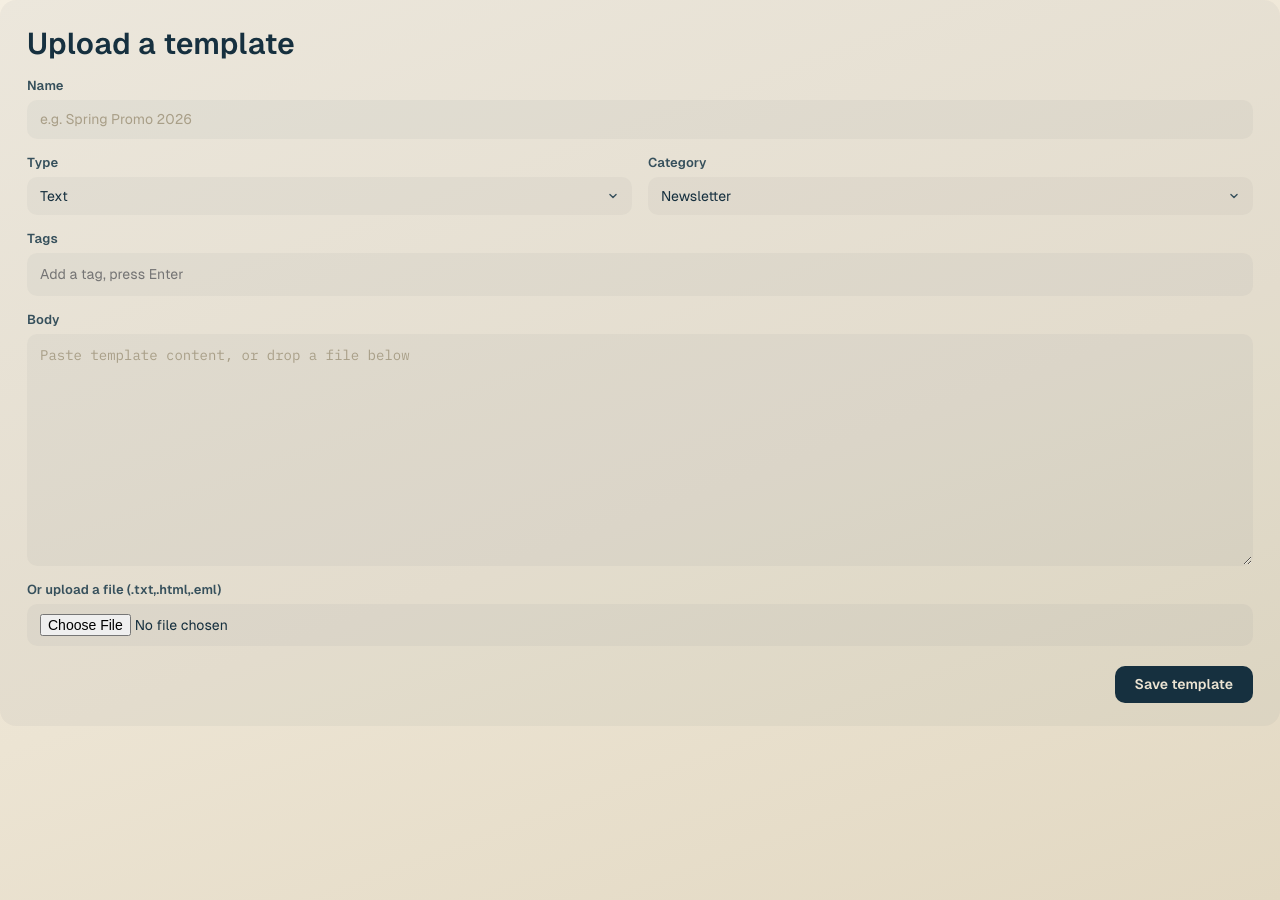
Test case: UploadForm › blocks submit and shows an error when an email template has no subject
Type "Welcome" into the field labelled "Name".
click(640, 119); type("Welcome")  # box [27,100,1253,138]
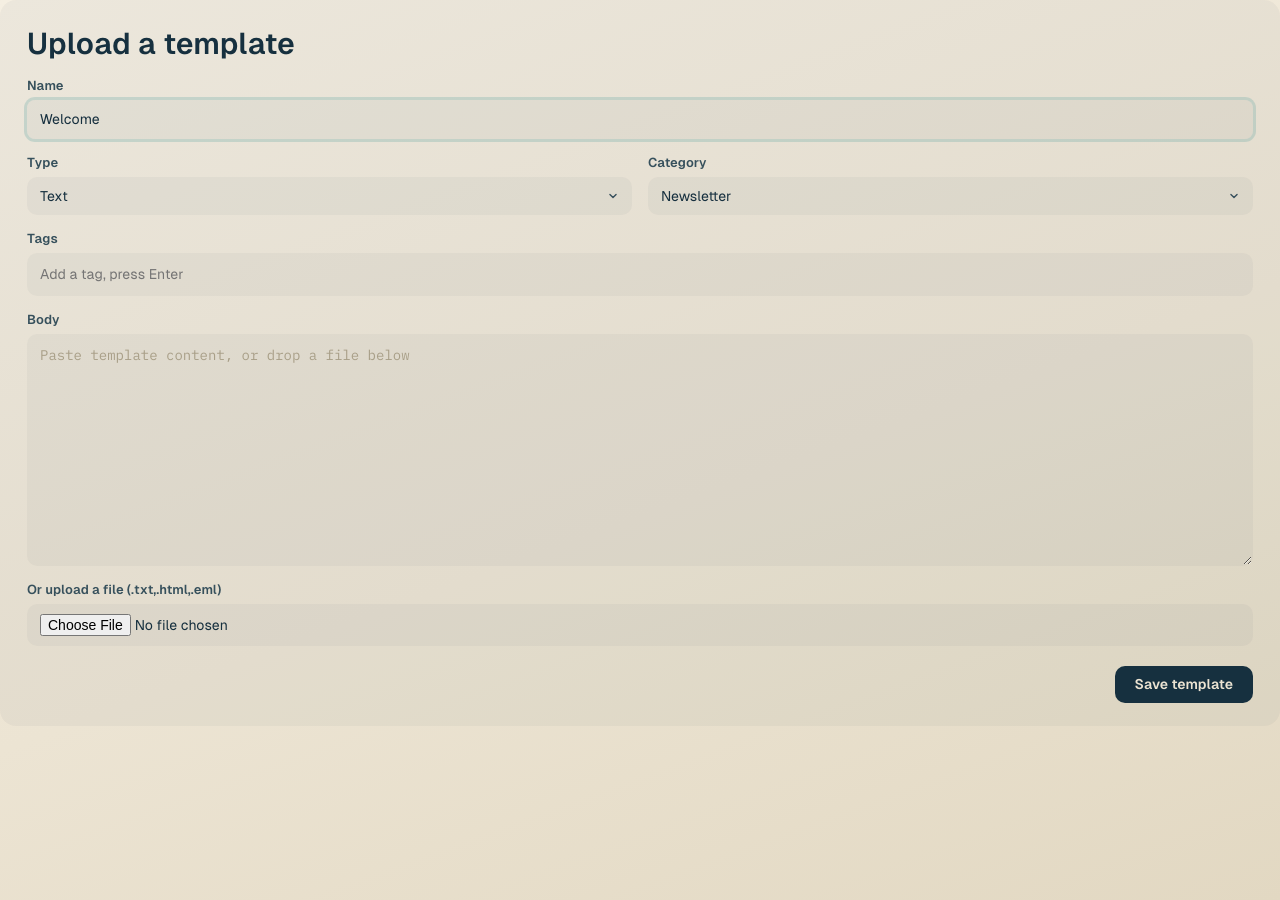
Select "Email" in the dropdown labelled "Type" at (330,196), box [27,176,632,214]
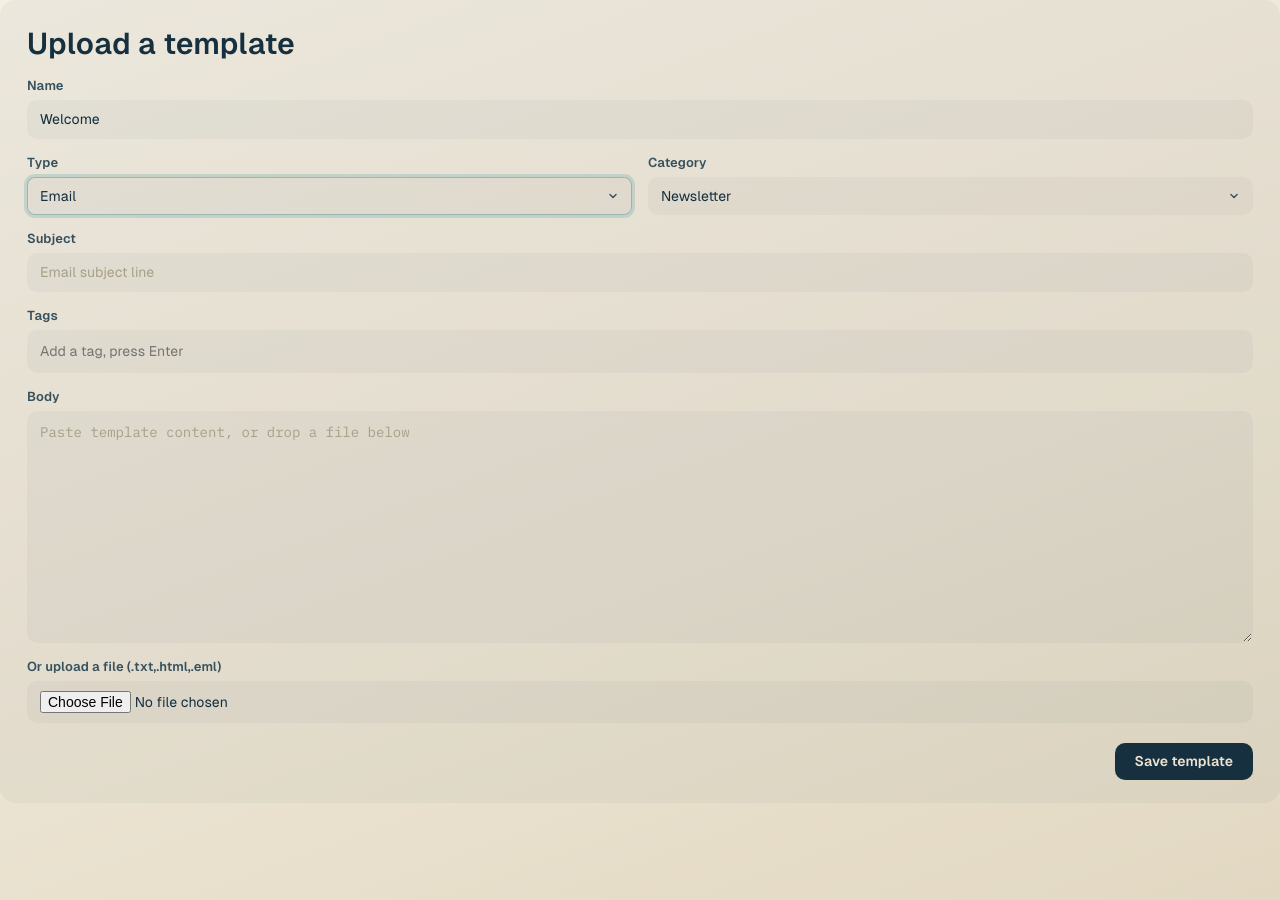
Type "Hi there" into the text box labelled "Body".
click(640, 526); type("Hi there")  # box [27,410,1253,642]
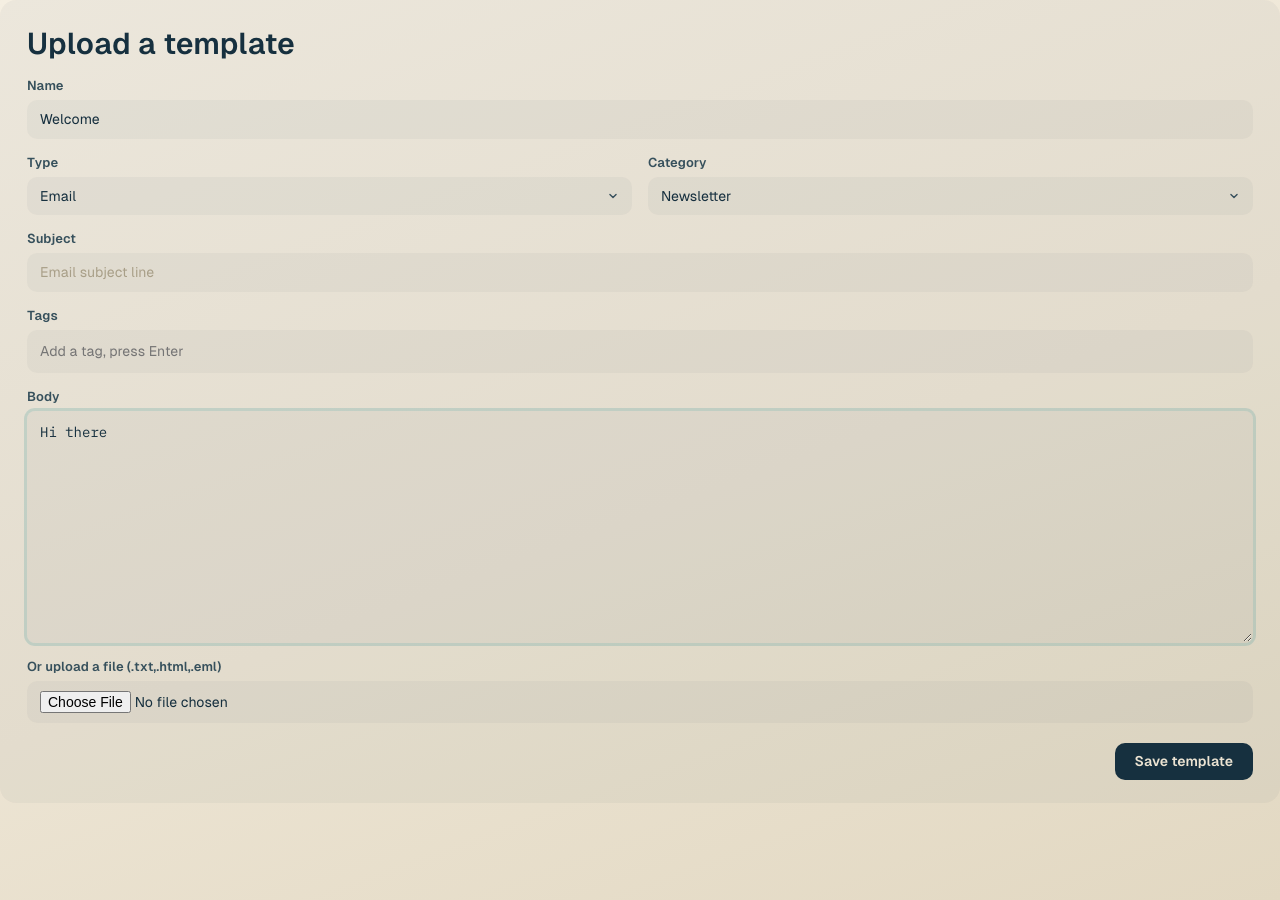
Click the button "Save template".
click(1184, 761)  # box [1115,742,1253,780]
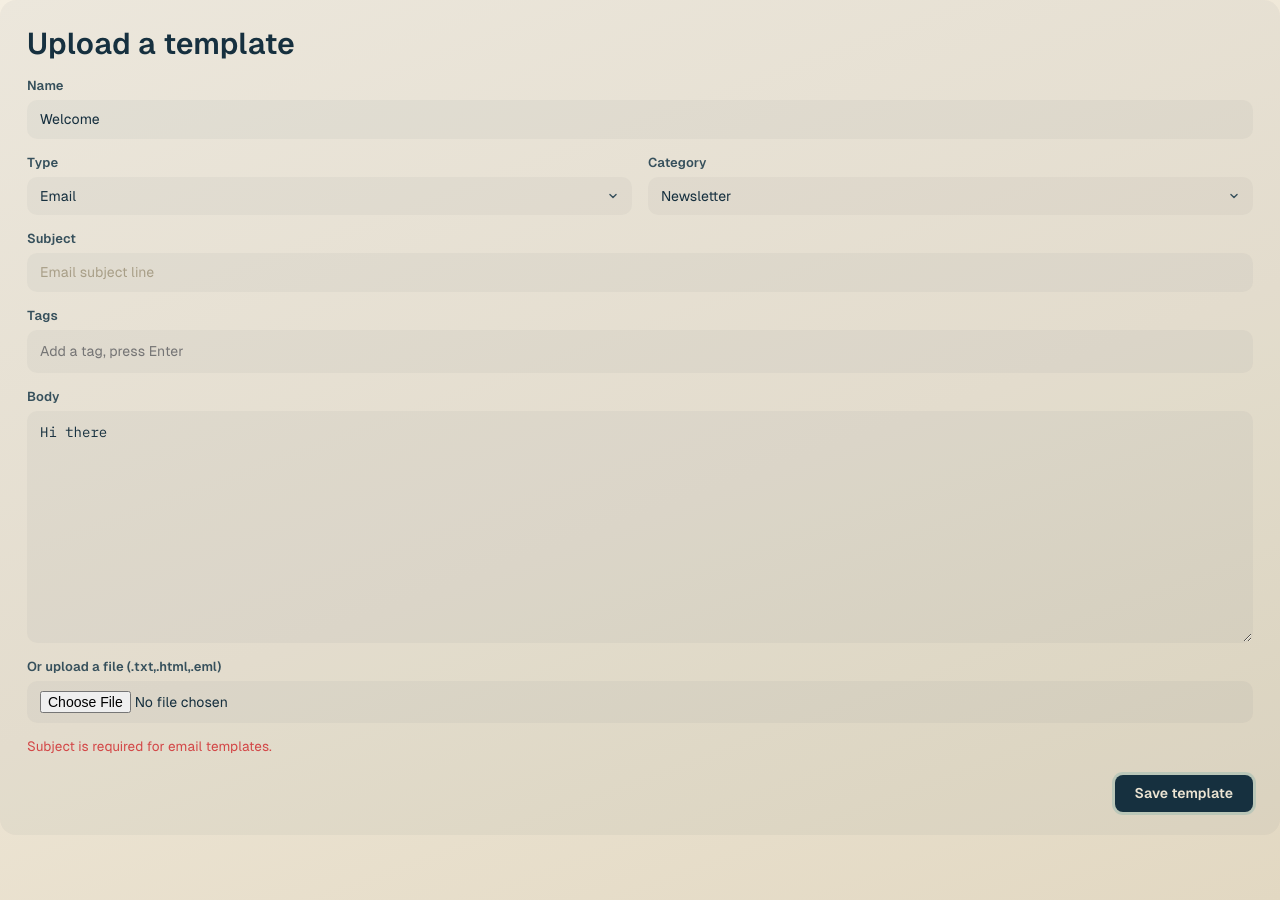
Check: the text "Subject is required for email templates." is shown, box [27,738,272,754]
